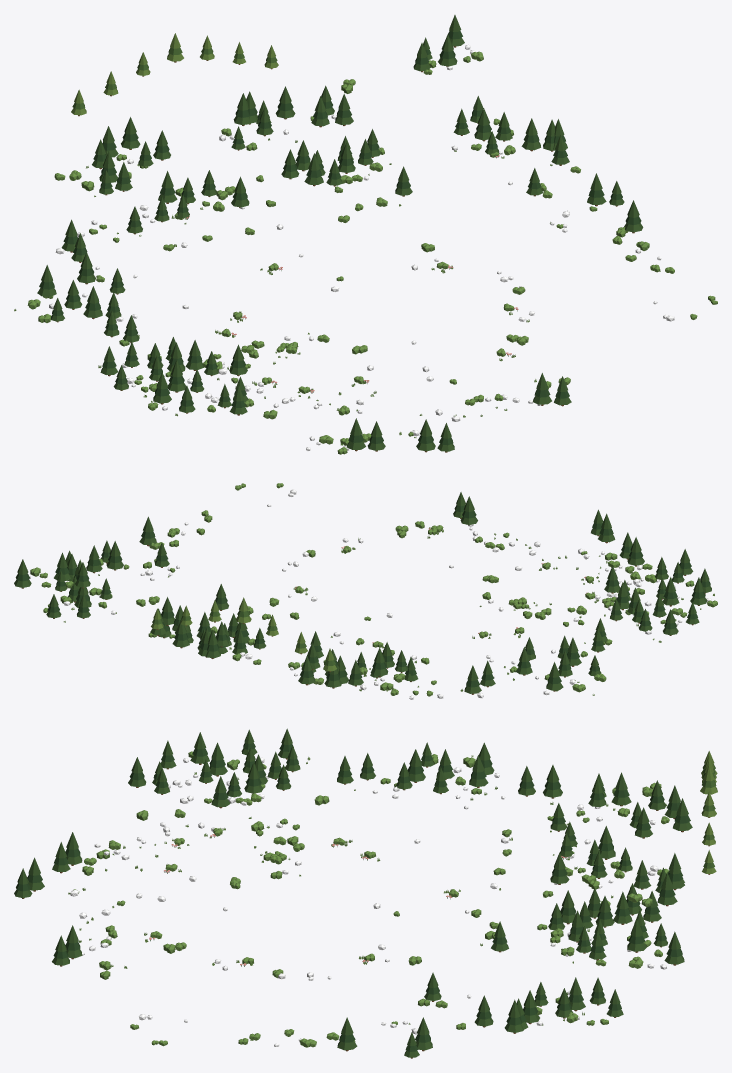
File: vegetation.glb
3 views of the same model, one above another, from view 1: azimuth 30°, elevation 25°; view 2: azimuth 150°, elevation 25°; view 3: azimuth 270°, elevation 25° (orthographic). The views are drawn at different scales.
Size of the model in its own units: 91.57 by 24.02 by 92.35.
